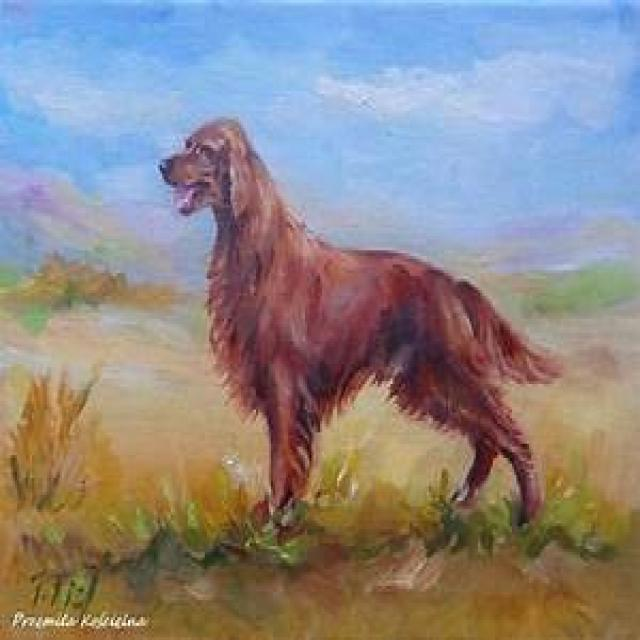dog: (156, 119, 567, 526)
